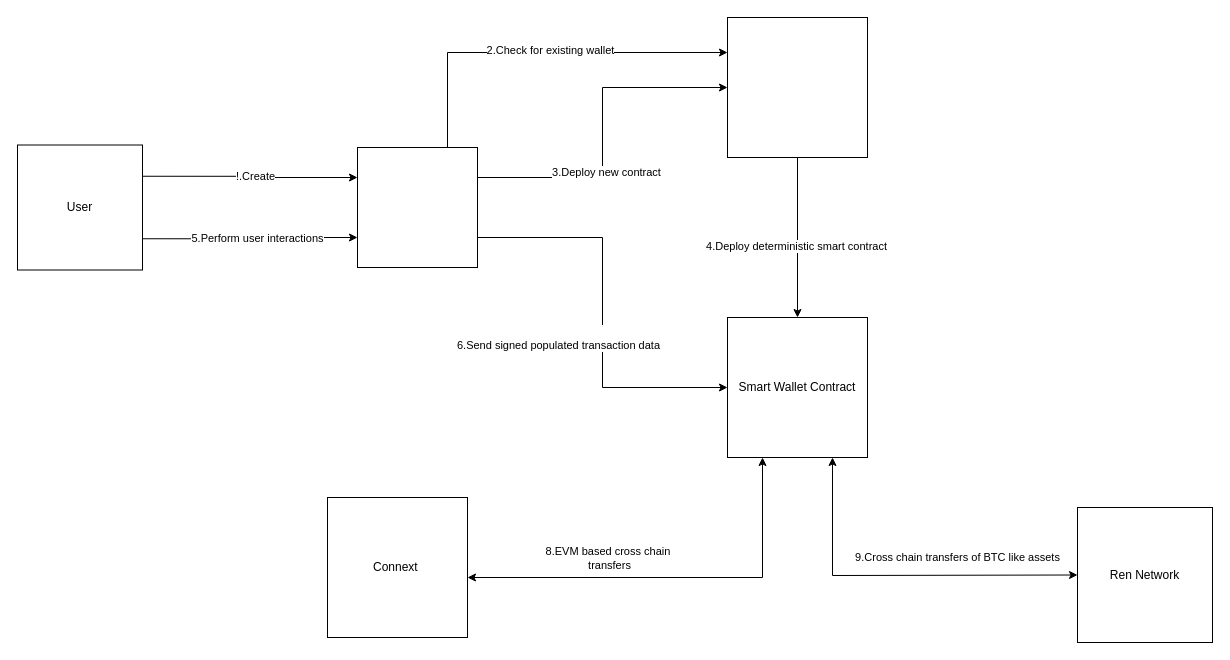
The diagram is 1230 pixels wide and 660 high, and some of its shapes have lost their labels. Here are the shapes that lost their labels. From the top down, the centre of each, then its label:
At point 797,87: "Smart Wallet Factory".
At point 417,207: "DPI UI".
